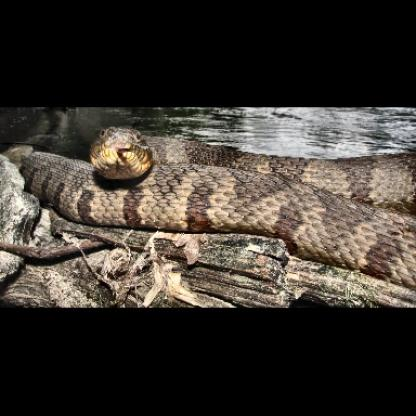Snake: (9, 116, 411, 279)
